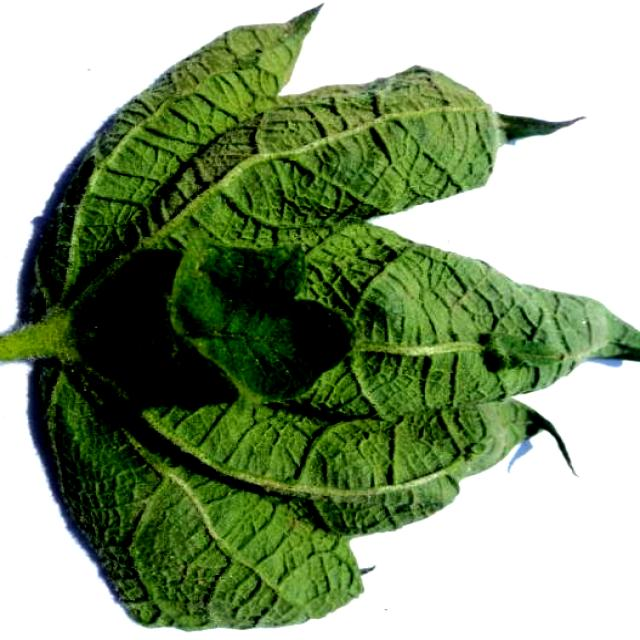Leaf Curl Virus: (90, 101, 444, 555)
